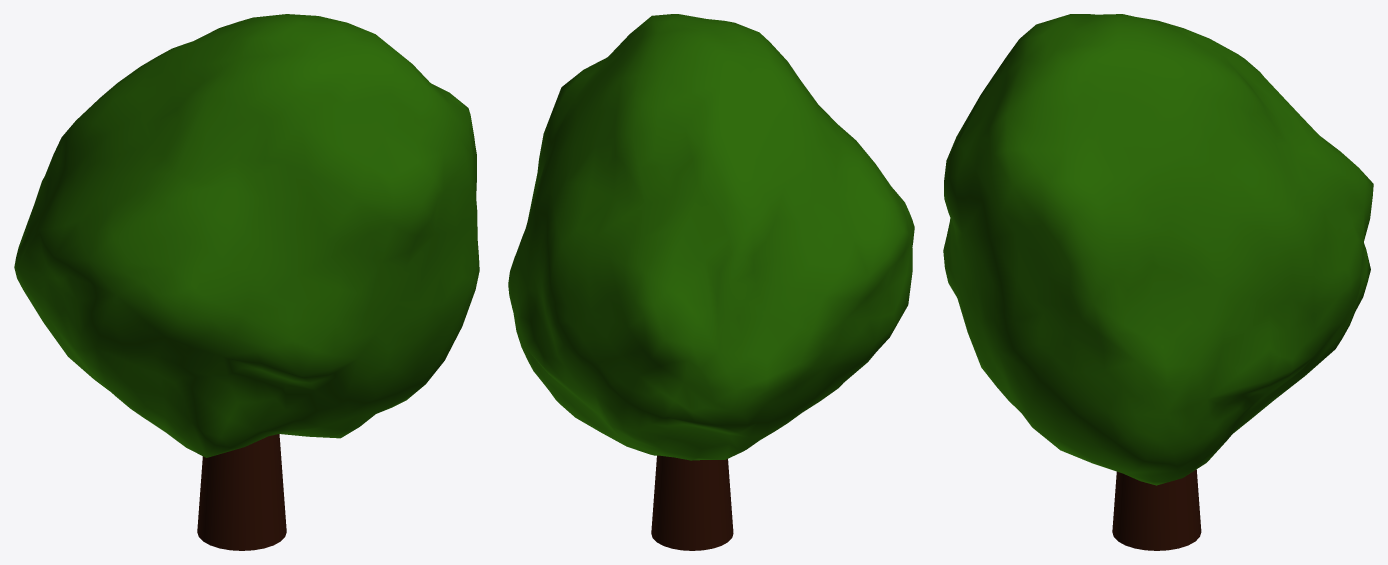
The model's file is forest_tree_A.FBX.
3 views of the same model, side by side, from view 1: azimuth 30°, elevation 25°; view 2: azimuth 150°, elevation 25°; view 3: azimuth 270°, elevation 25° (orthographic). The views are drawn at different scales.
Parts seen in each view (by area): view 1: Cone001; view 2: Cone001; view 3: Cone001.
Boxes of the visible parts, left/top/right/bottom form: Cone001: left=14, top=14, right=479, bottom=550; Cone001: left=508, top=14, right=914, bottom=550; Cone001: left=943, top=14, right=1373, bottom=550.
Bounding box in the file's own units: 863 × 1093 × 821.
